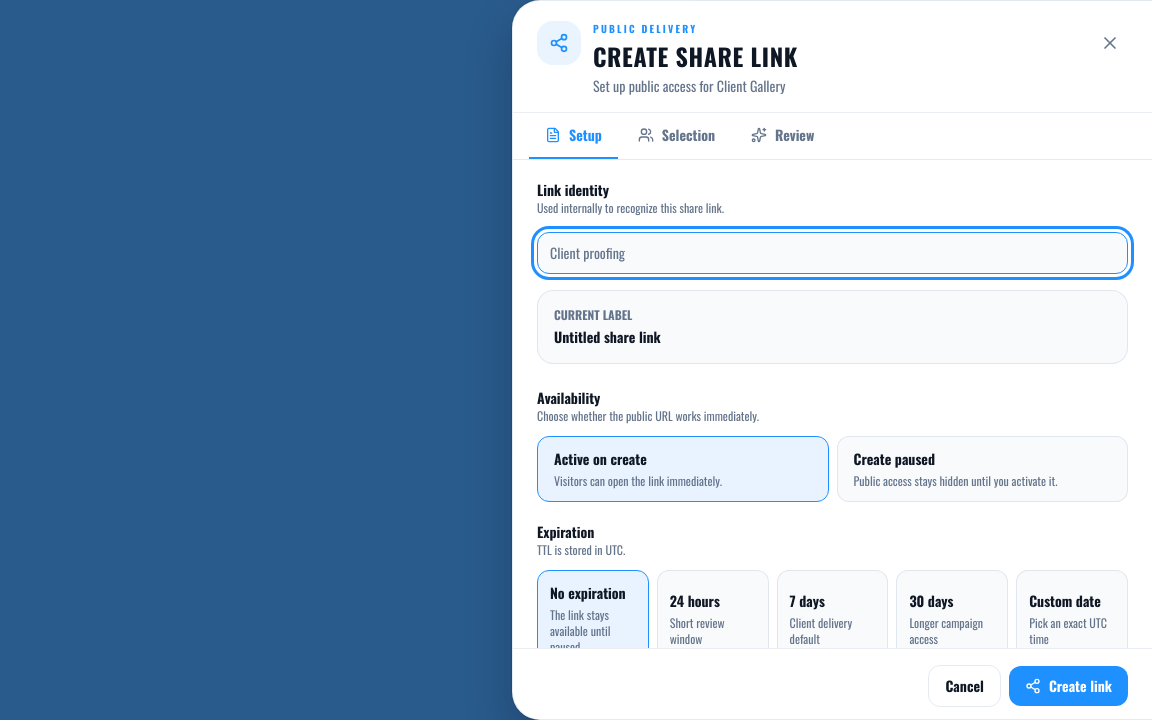
Test: ShareLinkSettingsModal › blocks fractional selection limits
Click the tab "Selection" at (676, 136), box 622,113 -> 731,159
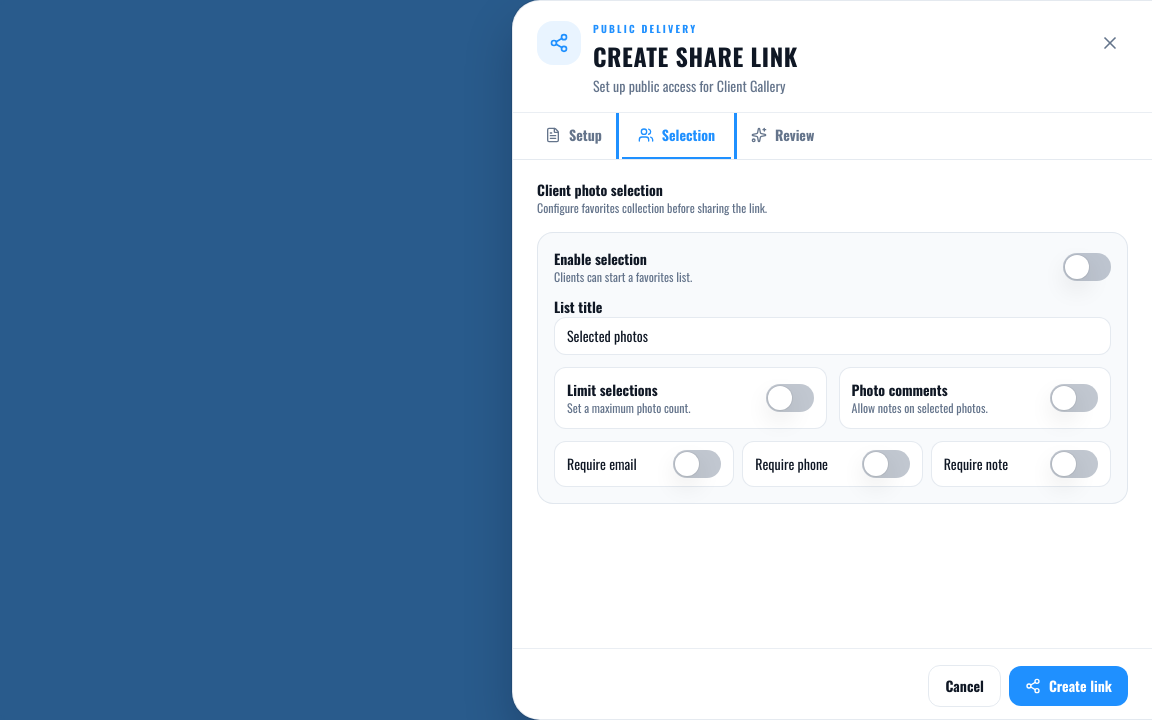
Click the switch named "limit selection count" at (790, 398), box 766,384 -> 814,412
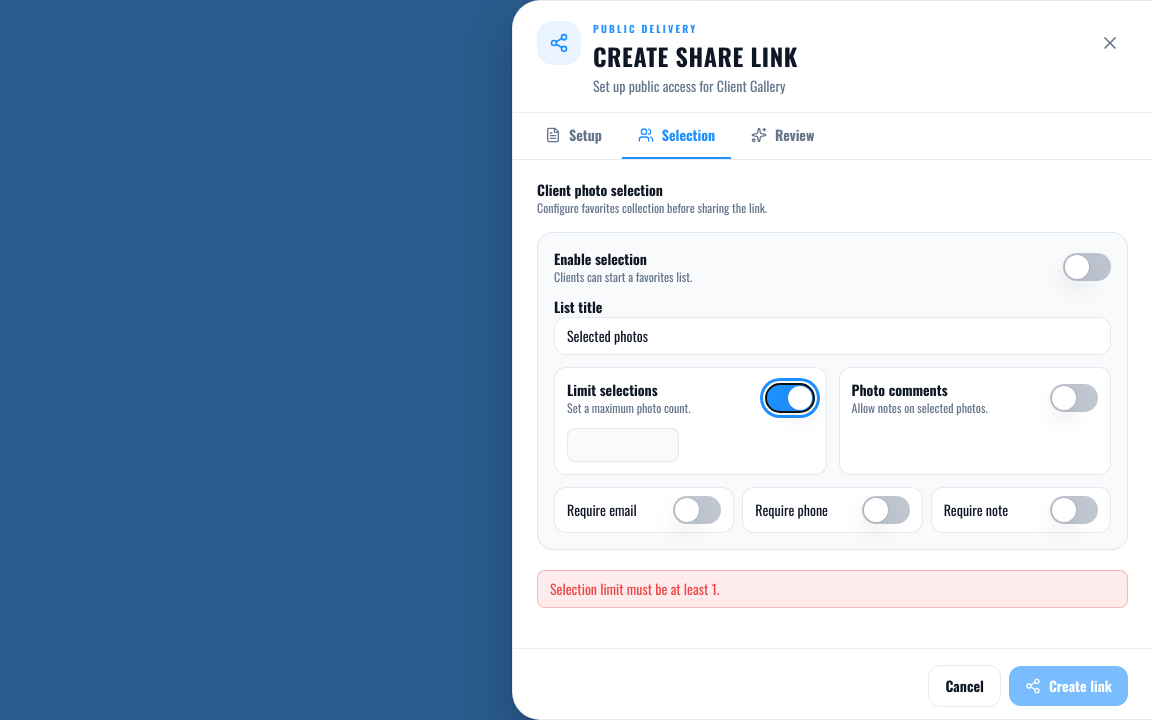
Type "1.5" into the number field named "Selection limit" at (623, 445), box 567,428 -> 679,462
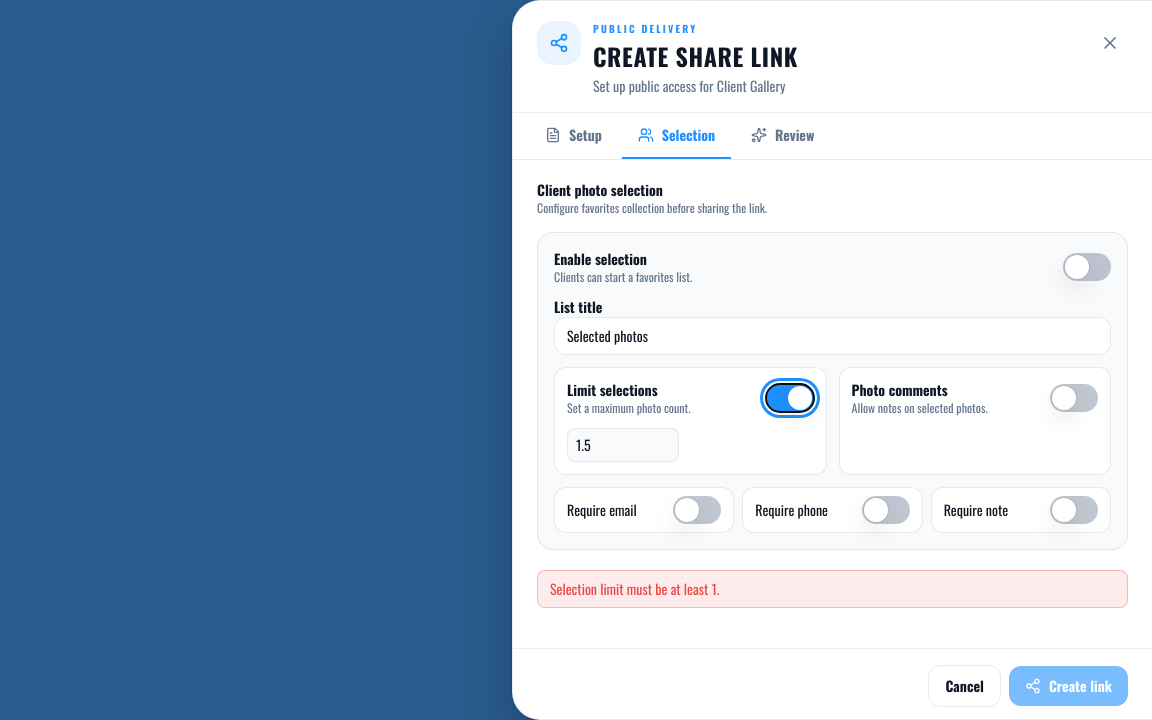
Expected: the button "Create link" is disabled, 1009,666 -> 1128,706
Expected: the text "Selection limit must be at least 1." is shown, 537,570 -> 1128,608
Replace the text in the number field named "Selection limit" with "3" at (623, 445), box 567,428 -> 679,462
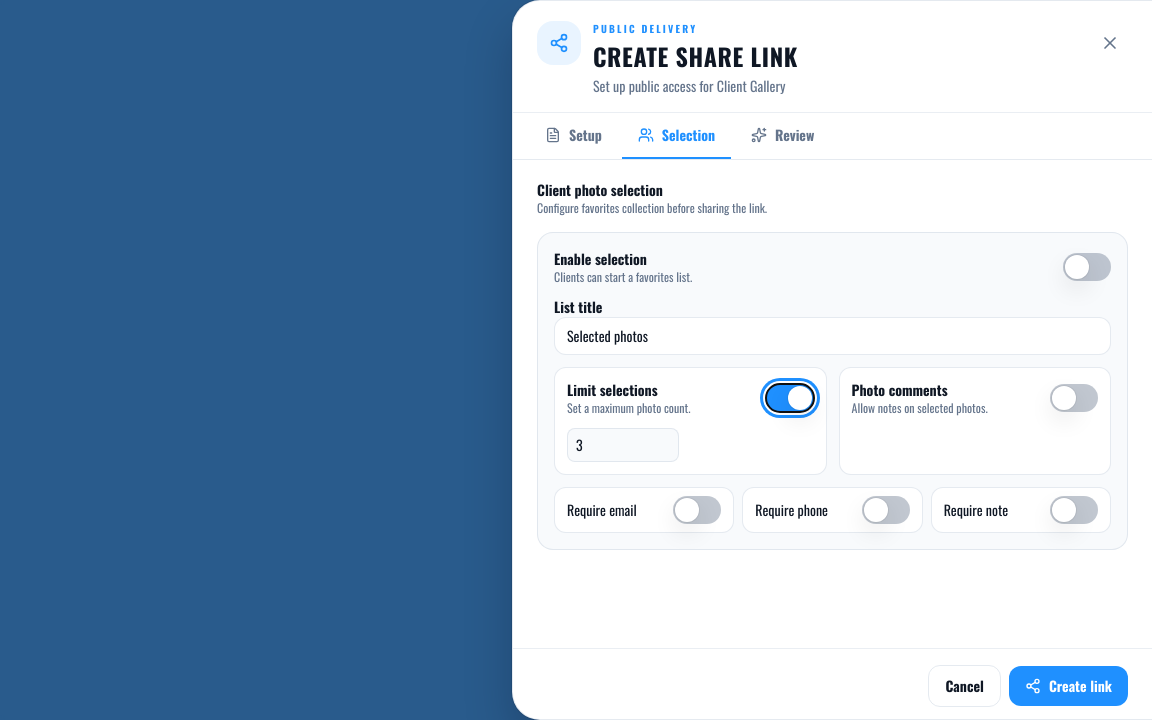
Expected: the button "Create link" is enabled, 1009,666 -> 1128,706
